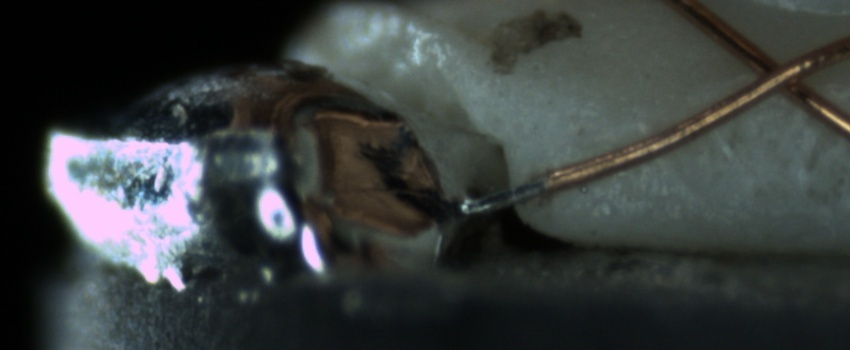CL: (728, 34, 827, 111)
TS: (453, 180, 547, 214)
